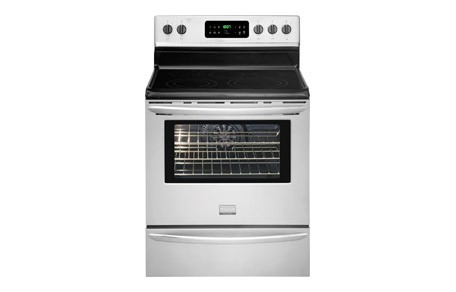stove: (139, 9, 314, 274)
